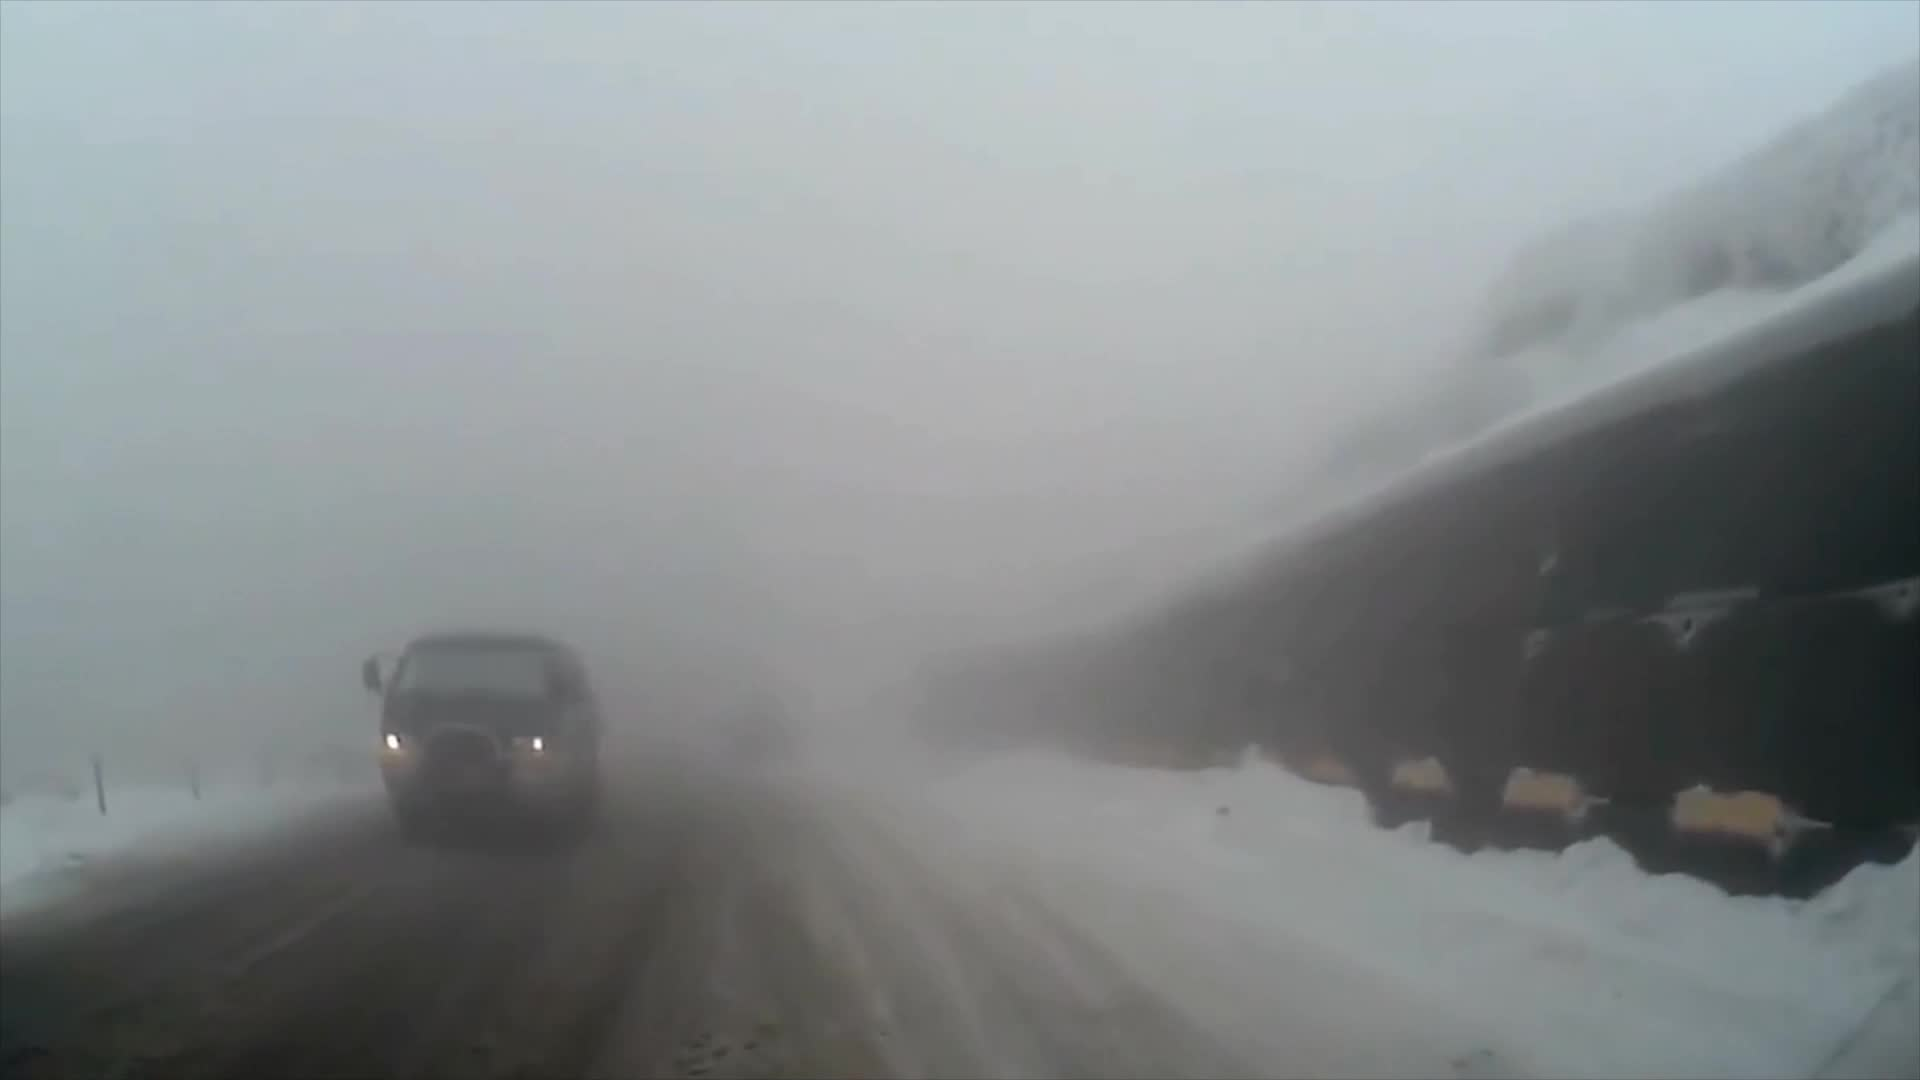vehicle: (356, 626, 603, 847)
